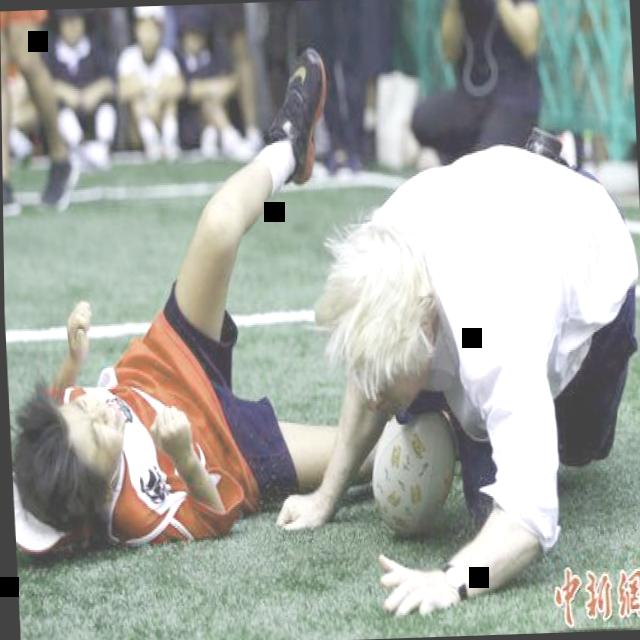Fall-Detected: (264, 97, 640, 626)
